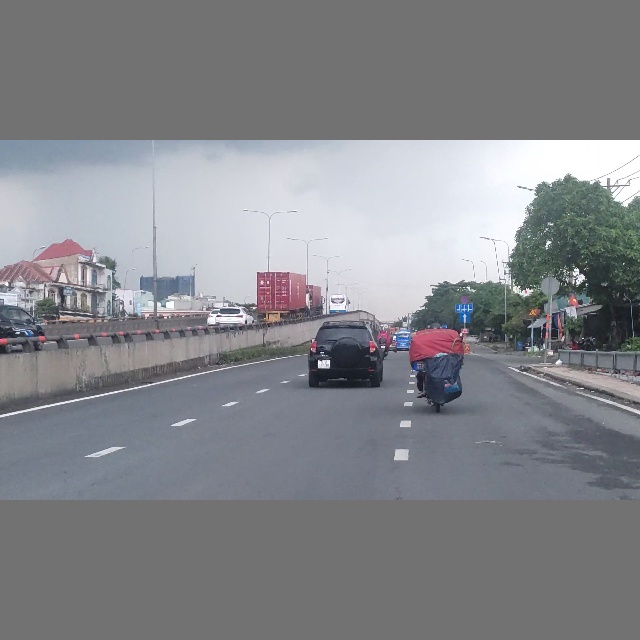I.407a: (459, 312, 471, 323)
P.130: (461, 295, 468, 303)
